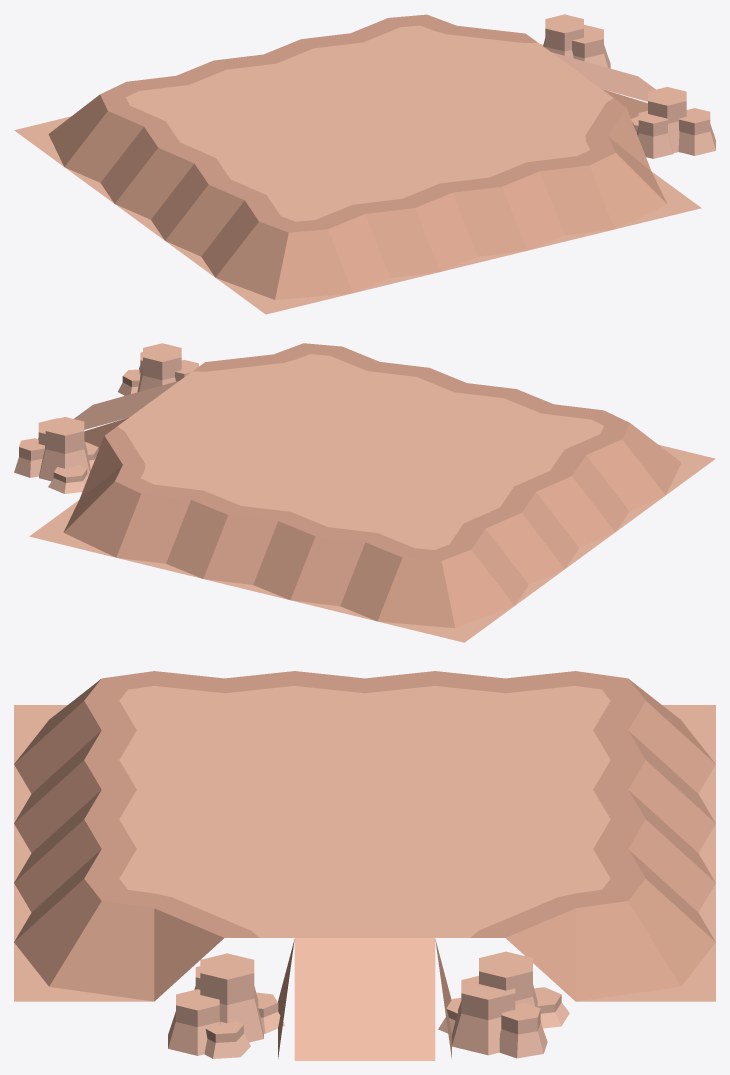
The model's file is mesa_small_b.glb.
3 views of the same model, one above another, from view 1: azimuth 30°, elevation 25°; view 2: azimuth 150°, elevation 25°; view 3: azimuth 270°, elevation 25° (orthographic). The views are drawn at different scales.
Parts seen in each view (by area): view 1: terrain_sideCorner.003, terrain_sideCliff.006, terrain_sideCliff.011, terrain_sideCliff.007, terrain_sideCliff.008, terrain_sideCliff.003, terrain_sideCliff.002, terrain_sideCorner.002, terrain_sideCornerInner.001, terrain.008, terrain, terrain.002 (+16 smaller); view 2: terrain_sideCorner.001, terrain_sideCliff.004, terrain_sideCliff.010, terrain_sideCliff.005, terrain_sideCliff.008, terrain_sideCliff.002, terrain_sideCliff.003, terrain_sideCorner, terrain_sideCornerInner, terrain_ramp_outcrop_back, terrain, terrain.004 (+17 smaller); view 3: terrain_ramp, terrain_sideCorner, terrain_sideCorner.002, terrain_sideCornerInner.001, terrain_sideCornerInner, terrain_ramp_outcrop_back, terrain.008, terrain.002, terrain.005, terrain.009, terrain, terrain.001 (+17 smaller).
Boxes of the visible parts, x1,y1,x2,y2 form: terrain_sideCorner.003: (215,211,352,314); terrain_sideCliff.006: (477,147,614,250); terrain_sideCliff.011: (303,189,439,293); terrain_sideCliff.007: (390,168,527,271); terrain_sideCliff.008: (115,137,251,240); terrain_sideCliff.003: (64,100,201,203); terrain_sideCliff.002: (165,174,302,277); terrain_sideCorner.002: (565,136,701,229); terrain_sideCornerInner.001: (514,89,651,170); terrain.008: (376,73,513,131); terrain: (326,36,463,94); terrain.002: (202,116,338,173); terrain_sideCorner.001: (377,539,514,642); terrain_sideCliff.004: (290,518,427,621); terrain_sideCliff.010: (116,475,252,578); terrain_sideCliff.005: (203,496,339,599); terrain_sideCliff.008: (478,465,615,568); terrain_sideCliff.002: (528,428,665,531); terrain_sideCliff.003: (428,502,564,605); terrain_sideCorner: (29,465,165,557); terrain_sideCornerInner: (79,417,216,499); terrain_ramp_outcrop_back: (14,417,98,493); terrain: (167,438,303,496); terrain.004: (441,407,577,465); terrain_ramp: (294,938,435,1060); terrain_sideCorner: (575,878,715,1001); terrain_sideCorner.002: (14,878,154,1001); terrain_sideCornerInner.001: (154,878,294,1001); terrain_sideCornerInner: (435,878,575,1001); terrain_ramp_outcrop_back: (438,951,569,1058); terrain.008: (294,819,435,878); terrain.002: (294,700,435,759); terrain.005: (294,760,435,819); terrain.009: (294,878,435,937); terrain: (435,819,575,878); terrain.001: (435,760,575,819).
Bounding box in the file's own units: 6 × 0.5 × 5.
